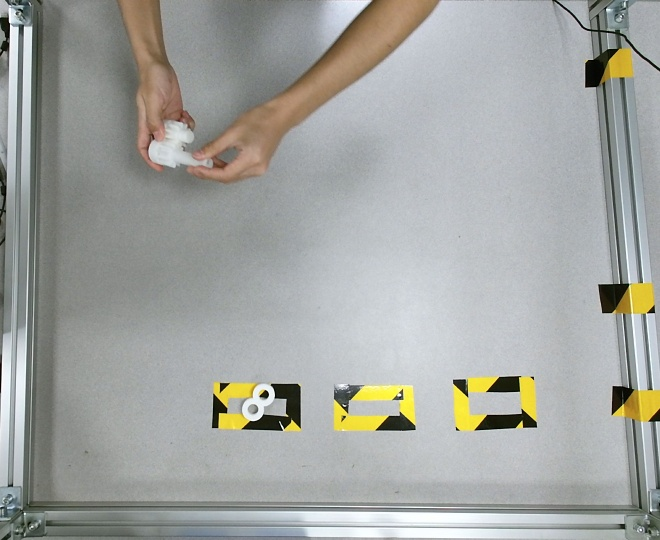stage_3: (148, 119, 213, 169)
